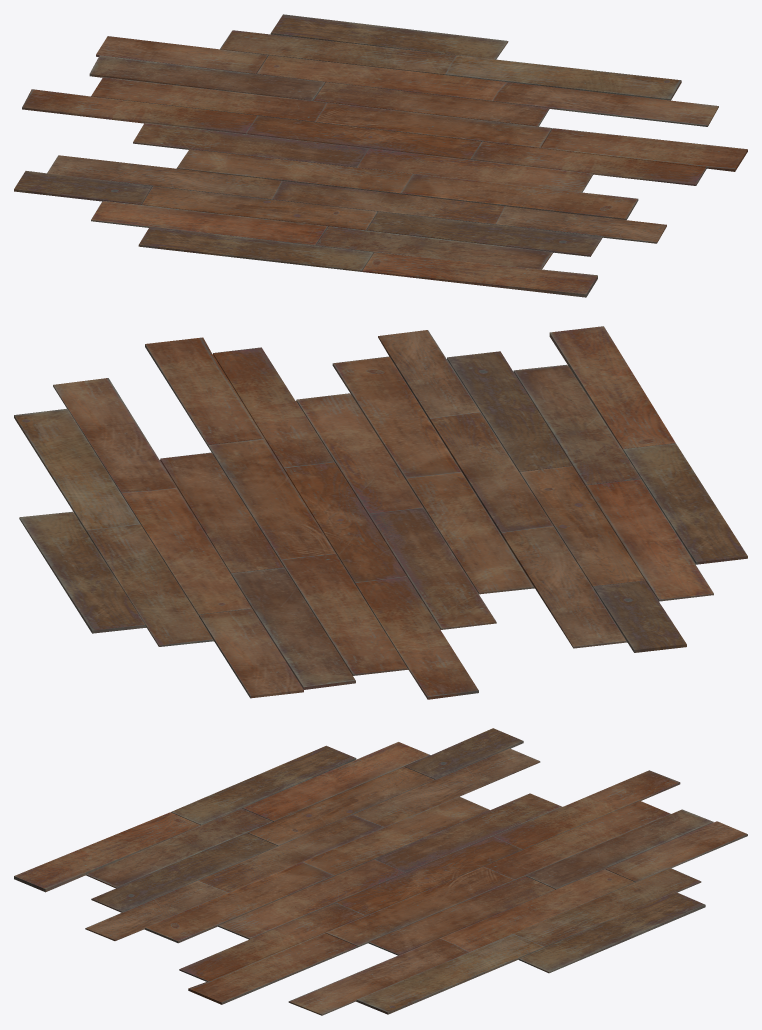
File: VoidFloor.fbx
The picture shows the model from 3 angles, top to bottom: view 1: azimuth 30°, elevation 25°; view 2: azimuth 150°, elevation 25°; view 3: azimuth 270°, elevation 25°; orthographic projection. The views are drawn at different scales.
Visible parts, largest first — view 1: VoidFloor; view 2: VoidFloor; view 3: VoidFloor.
Boxes of the visible parts, box(x1,y1,x2,y2) form: VoidFloor: box(14, 14, 747, 297); VoidFloor: box(14, 326, 747, 699); VoidFloor: box(14, 728, 747, 1015).
Size of the model in its own units: 339 by 1.73 by 369.
Materials: 1 (1 with a texture image).
